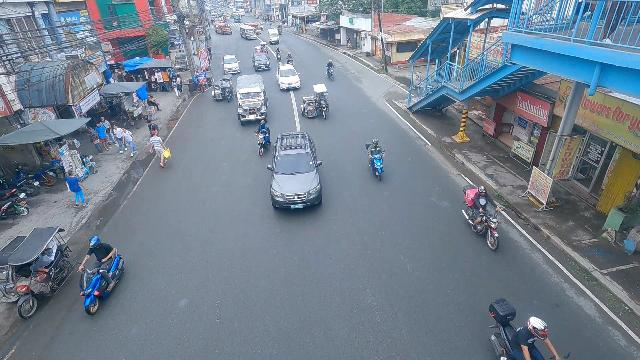car: (266, 130, 322, 212), (276, 63, 302, 91), (222, 54, 241, 75), (251, 53, 271, 71)
jeepney: (235, 74, 268, 127), (240, 24, 257, 39), (214, 22, 232, 35)
motorcycle: (74, 243, 123, 319), (460, 185, 503, 253), (366, 138, 387, 181), (254, 123, 271, 157), (325, 62, 336, 81), (261, 44, 269, 57), (287, 53, 294, 67), (275, 49, 282, 62), (277, 25, 282, 35), (258, 23, 264, 31)
van: (268, 28, 280, 45)
